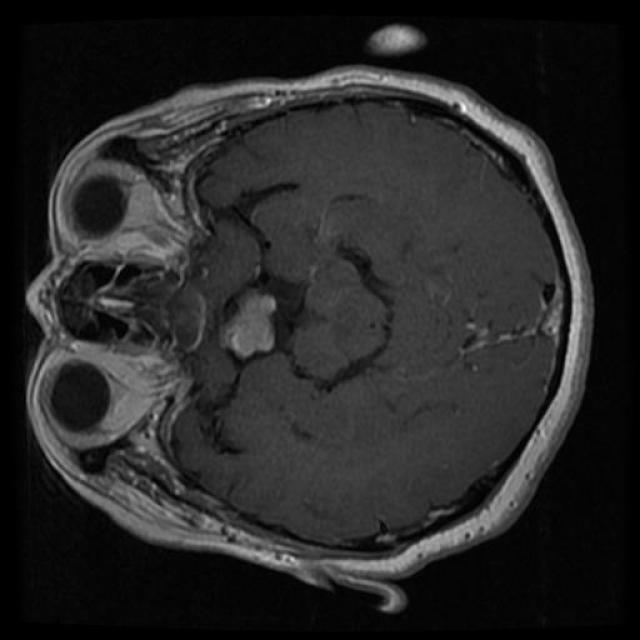Pituitary: (221, 288, 276, 360)
